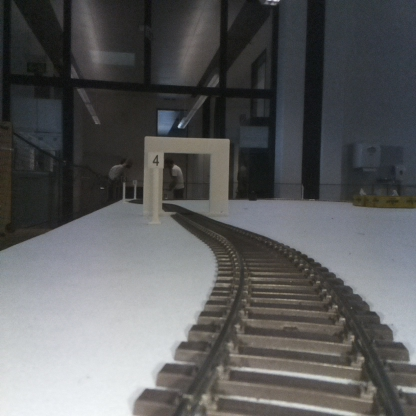white-info-4: (148, 151, 163, 221)
